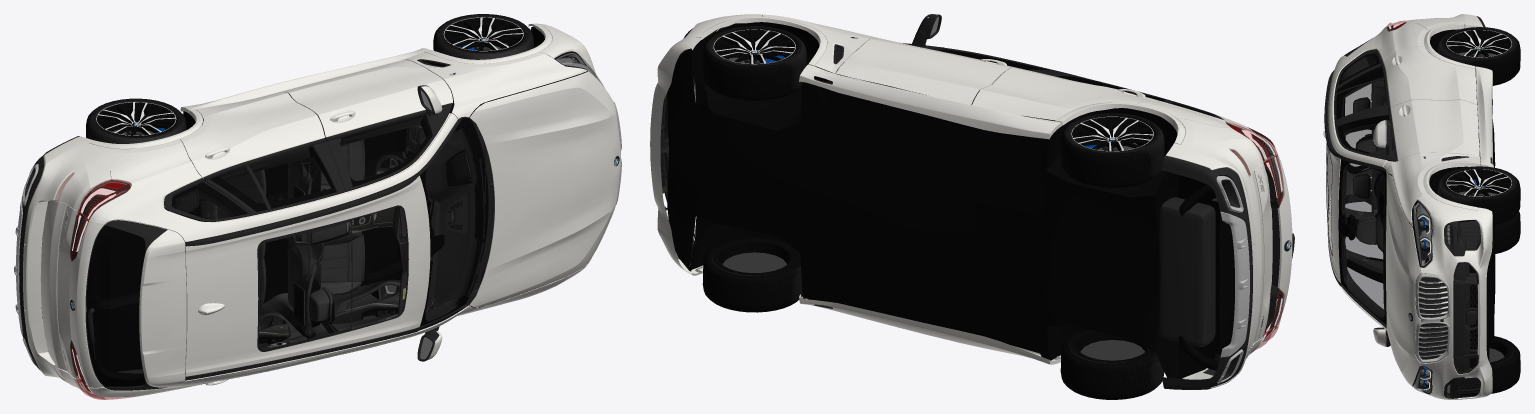
3 views of the same model, side by side, from view 1: azimuth 30°, elevation 25°; view 2: azimuth 150°, elevation 25°; view 3: azimuth 270°, elevation 25° (orthographic). The views are drawn at different scales.
Parts seen in each view (by area): view 1: body_mesh, wheel_FL_mesh, wheel_RL_mesh; view 2: body_mesh, wheel_RL_mesh, wheel_FL_mesh, wheel_FR_mesh, wheel_RR_mesh; view 3: body_mesh, wheel_FL_mesh, wheel_RL_mesh, wheel_FR_mesh, wheel_RR_mesh.
Boxes of the visible parts, left/top/right/bottom form: body_mesh: left=14, top=23, right=621, bottom=399; wheel_FL_mesh: left=433, top=14, right=533, bottom=59; wheel_RL_mesh: left=86, top=98, right=186, bottom=143; body_mesh: left=650, top=14, right=1294, bottom=389; wheel_RL_mesh: left=1060, top=113, right=1164, bottom=188; wheel_FL_mesh: left=702, top=26, right=806, bottom=100; wheel_FR_mesh: left=702, top=237, right=802, bottom=312; wheel_RR_mesh: left=1060, top=328, right=1164, bottom=399; body_mesh: left=1323, top=14, right=1495, bottom=399; wheel_FL_mesh: left=1437, top=166, right=1520, bottom=225; wheel_RL_mesh: left=1437, top=27, right=1520, bottom=85; wheel_FR_mesh: left=1489, top=336, right=1520, bottom=393; wheel_RR_mesh: left=1495, top=211, right=1520, bottom=253.
Size of the model in its own units: 4.92 by 2.24 by 1.78.
Materials: 36 (9 with a texture image).
